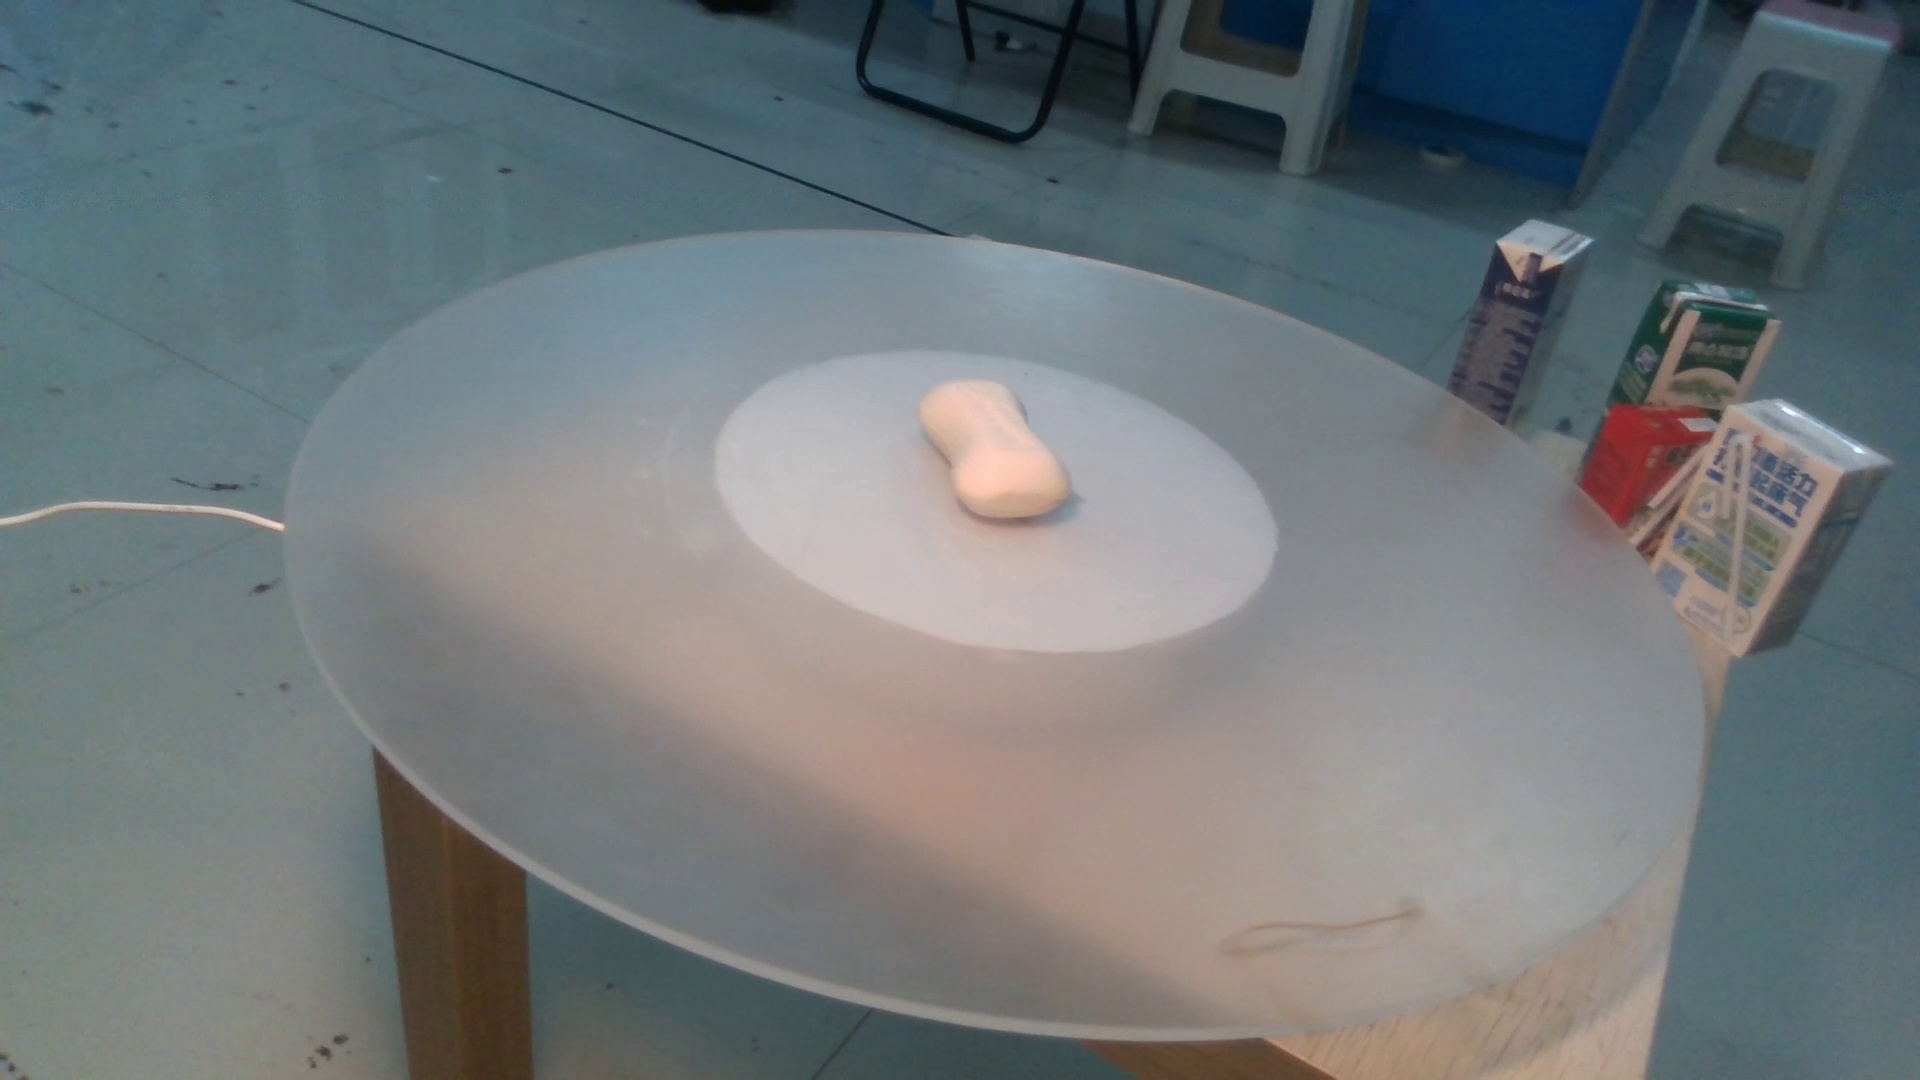CA003_1: (895, 367, 1106, 526)
